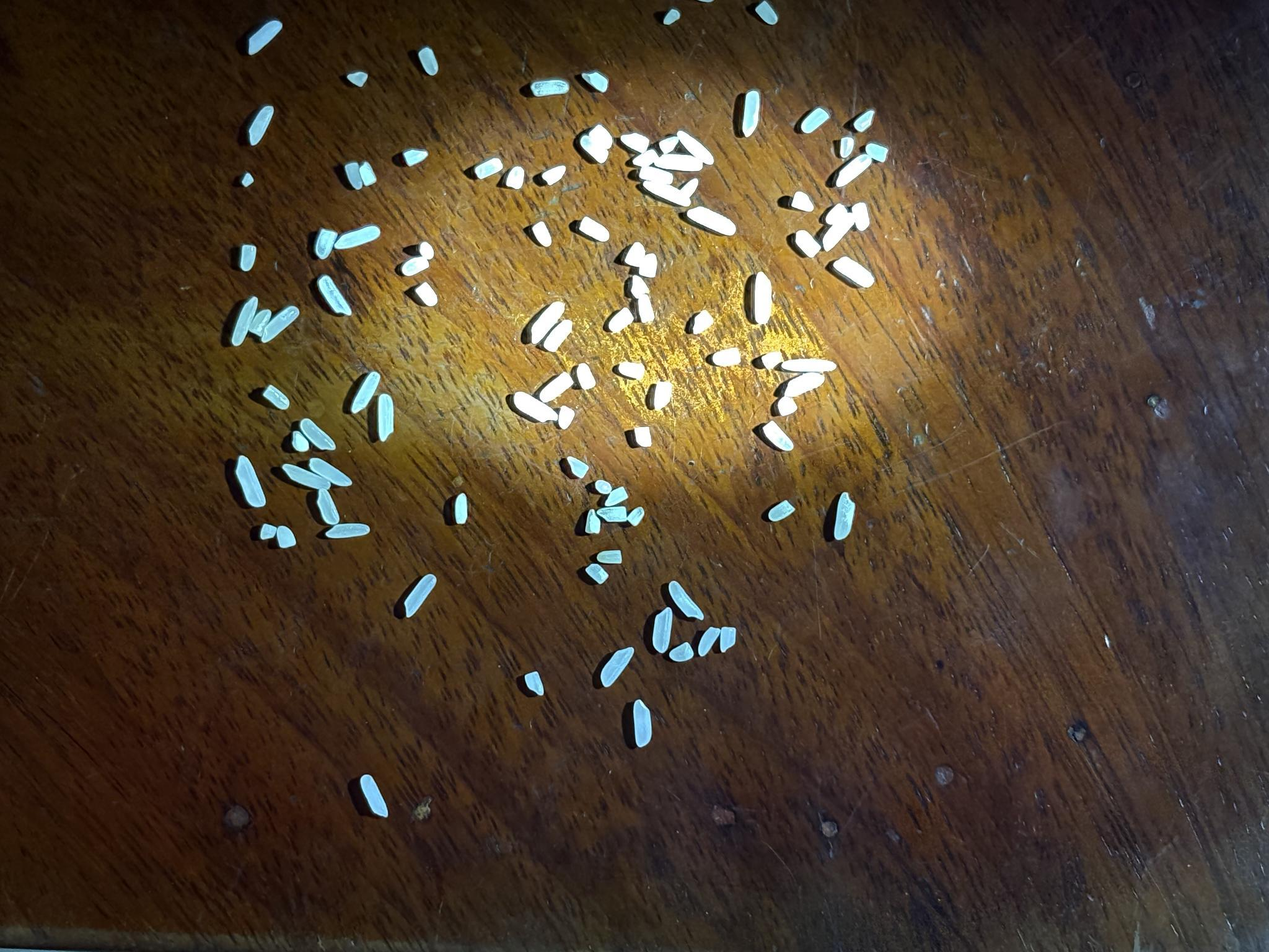Rice-th-y-nh: (230, 454, 270, 510), (687, 199, 736, 243), (527, 297, 567, 346), (512, 386, 558, 428), (746, 271, 781, 326), (832, 250, 875, 294), (780, 348, 837, 381), (226, 295, 262, 347), (400, 571, 438, 620), (665, 578, 705, 624), (334, 219, 381, 258), (355, 772, 393, 820), (598, 643, 636, 690), (279, 461, 333, 494), (827, 491, 861, 542), (820, 209, 857, 254), (260, 303, 301, 343), (676, 127, 715, 169), (835, 151, 873, 193), (316, 274, 353, 317), (645, 606, 678, 654), (626, 699, 658, 748), (735, 89, 767, 138), (783, 366, 825, 403), (643, 178, 693, 209), (308, 456, 353, 490), (655, 147, 704, 178), (738, 272, 766, 325), (349, 370, 381, 416), (370, 393, 400, 442), (298, 416, 337, 453), (325, 516, 370, 547), (246, 19, 283, 56), (761, 416, 795, 456), (312, 487, 343, 527), (246, 104, 275, 146), (530, 73, 570, 103), (542, 318, 575, 354), (538, 371, 575, 403), (799, 103, 832, 138), (311, 225, 340, 262), (793, 227, 823, 261), (579, 134, 610, 165), (578, 215, 611, 244), (711, 342, 742, 372), (597, 500, 629, 527), (638, 163, 674, 187), (696, 625, 722, 658), (848, 200, 873, 234), (608, 306, 635, 337), (650, 379, 676, 411), (767, 497, 795, 526), (622, 240, 649, 270), (473, 156, 505, 181), (261, 385, 291, 411), (342, 160, 367, 191), (620, 130, 651, 155), (235, 242, 260, 273), (634, 293, 658, 325), (450, 492, 473, 525), (668, 639, 696, 666), (636, 250, 661, 280), (248, 307, 272, 338), (789, 188, 816, 215), (588, 123, 615, 150), (823, 200, 849, 228), (580, 69, 609, 94), (522, 669, 547, 698), (716, 624, 740, 654), (401, 254, 431, 278), (417, 46, 440, 77), (274, 523, 299, 551), (574, 362, 598, 391), (691, 308, 715, 337), (503, 164, 528, 191), (632, 146, 661, 169), (617, 359, 646, 382), (531, 219, 554, 248), (864, 140, 890, 165), (754, 0, 779, 26), (414, 281, 439, 307), (852, 107, 876, 134), (775, 394, 800, 419), (566, 455, 591, 480), (678, 176, 702, 202), (541, 163, 567, 187), (628, 273, 651, 300), (555, 403, 577, 431), (585, 562, 610, 586), (604, 485, 629, 509), (760, 348, 784, 372), (357, 161, 379, 187), (596, 546, 623, 567), (632, 424, 654, 449), (582, 509, 603, 535), (402, 148, 429, 167), (658, 134, 680, 156), (289, 430, 310, 452), (626, 505, 646, 528), (837, 135, 856, 159), (346, 70, 369, 89), (258, 522, 278, 542), (417, 240, 436, 261), (593, 478, 614, 496), (662, 8, 682, 26)
